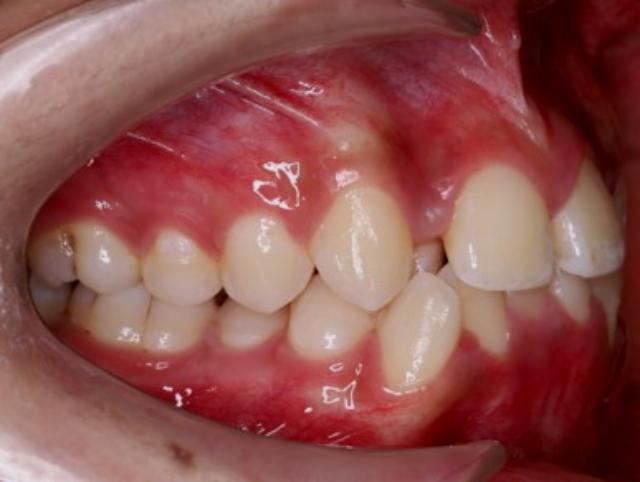canine class I: (287, 163, 465, 411)
molar class III 1/2: (31, 221, 215, 363)
